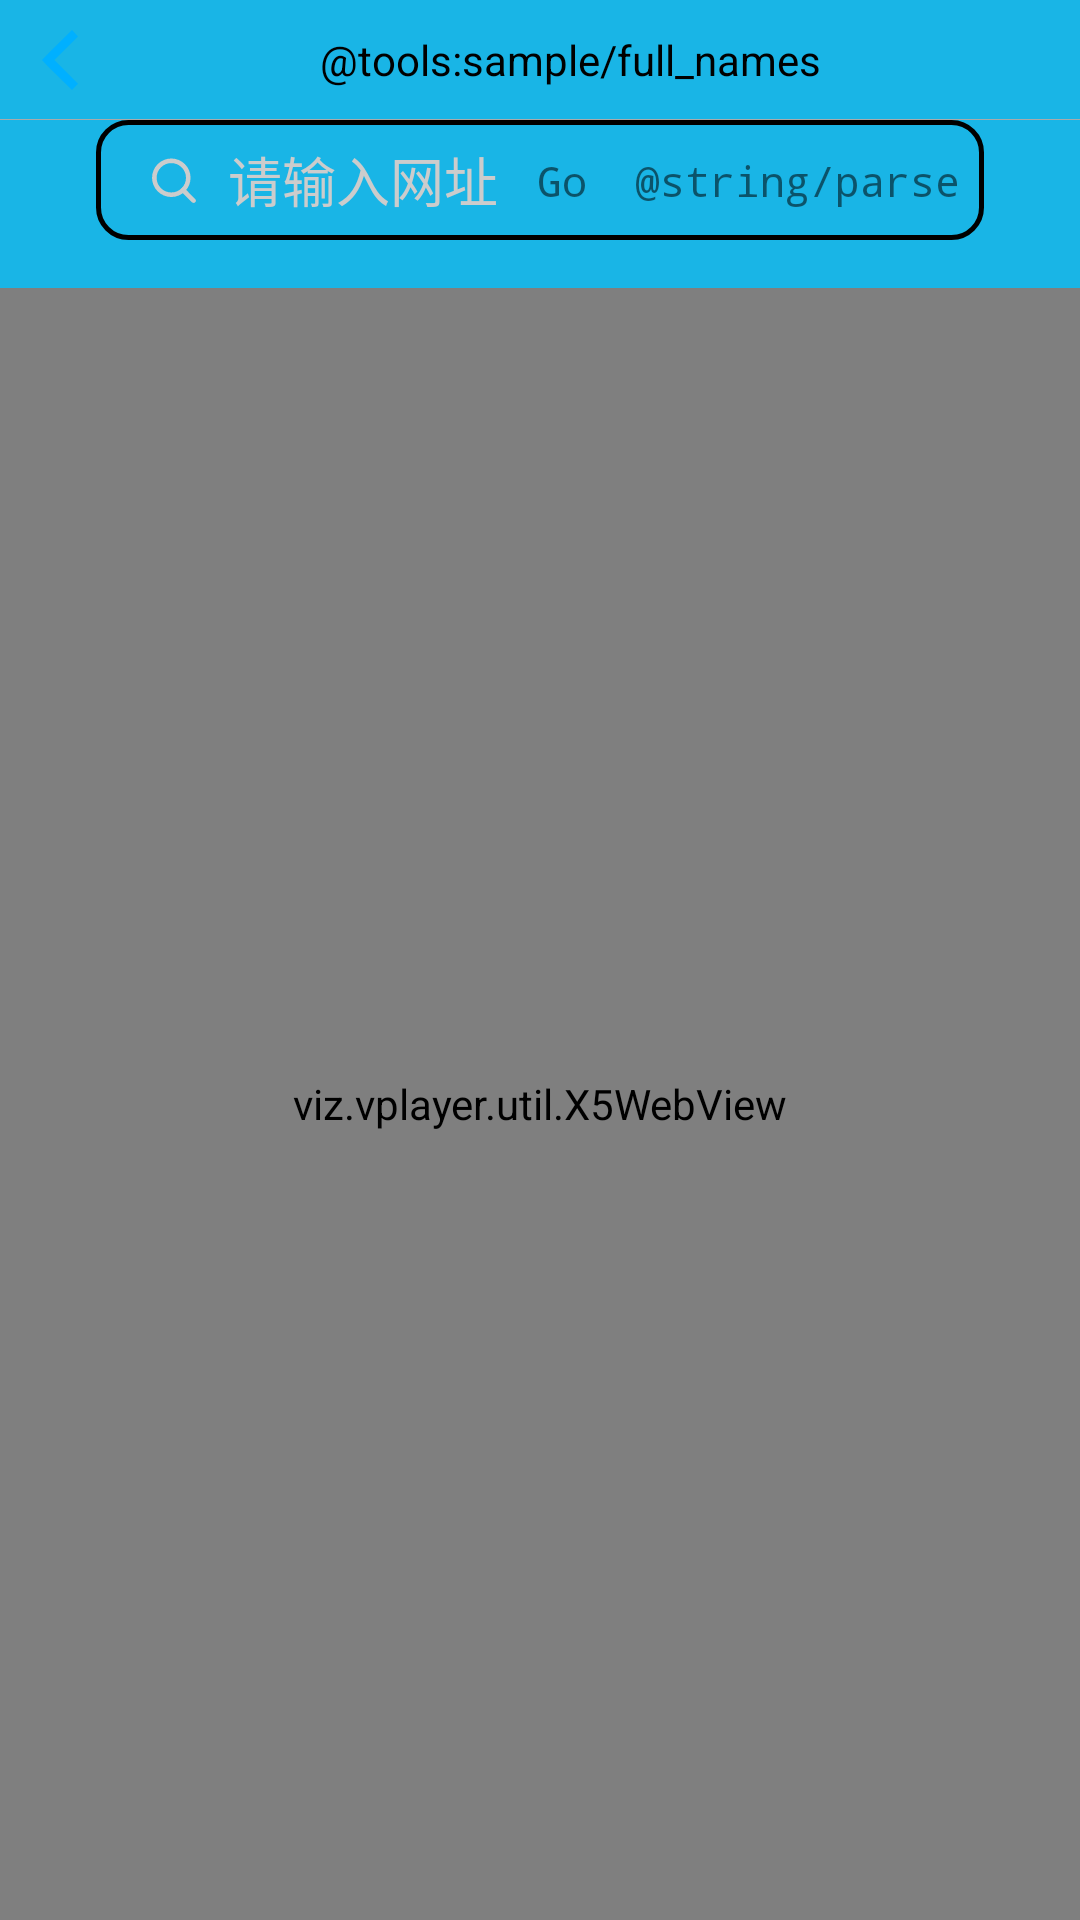

Locate icon controls on the screen. Image size 1080px×1920px, boxes as (x1, y1, x2, y2).
back: (43, 31, 77, 89)
